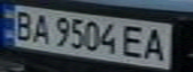0: (81, 18, 103, 53)
4: (100, 20, 121, 56)
5: (66, 16, 87, 51)
9: (48, 14, 72, 48)
A: (139, 25, 172, 62), (27, 11, 54, 45)
B: (9, 8, 36, 42)
E: (118, 22, 151, 60)
